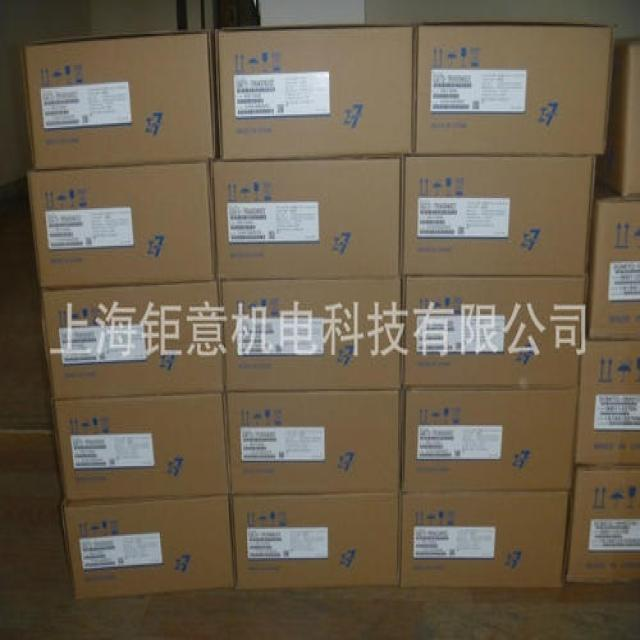box: (211, 24, 415, 162), (20, 29, 216, 171), (412, 22, 614, 155), (401, 154, 599, 276), (26, 162, 216, 288), (214, 155, 401, 280), (38, 280, 225, 401), (401, 273, 589, 389), (216, 276, 403, 391), (50, 391, 230, 502), (399, 386, 580, 493), (224, 389, 401, 495), (60, 495, 234, 599), (230, 488, 401, 587), (399, 492, 572, 585), (584, 176, 639, 340), (566, 464, 639, 585), (575, 340, 639, 464), (598, 39, 639, 196)
